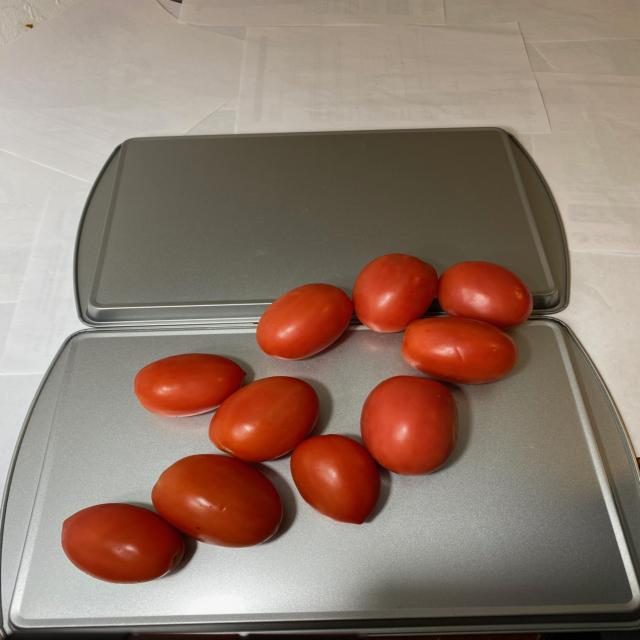tomato: (54, 248, 538, 584)
